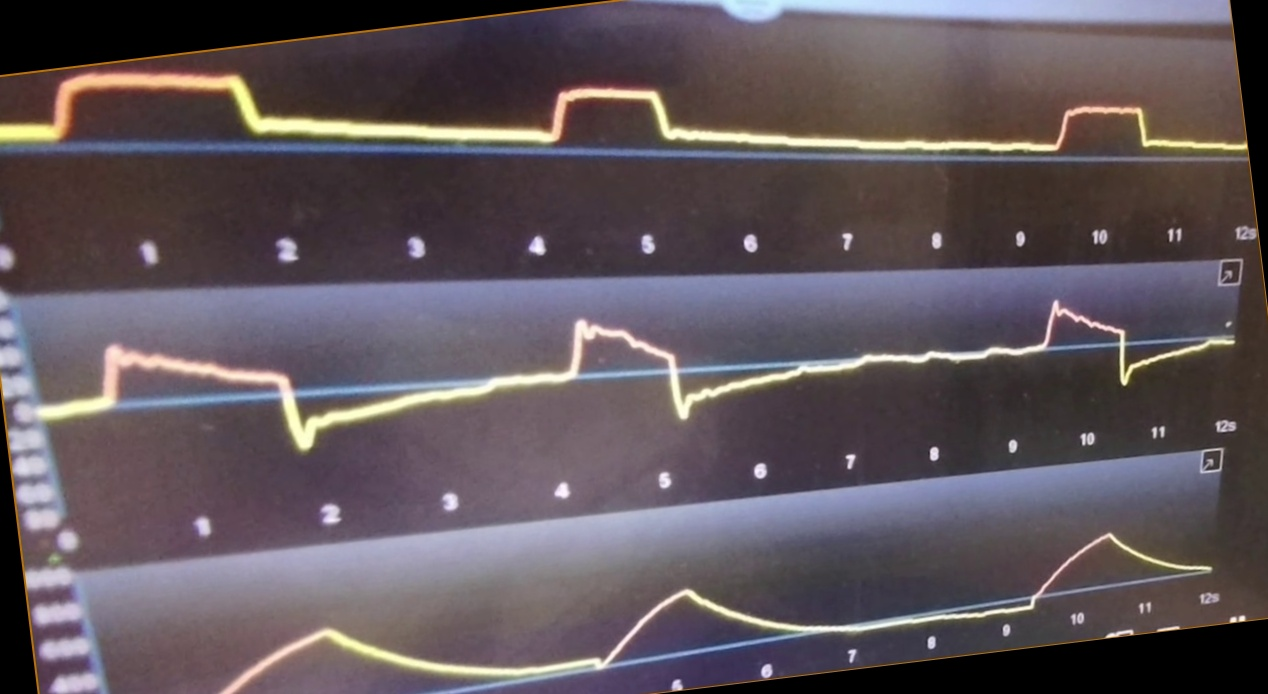Accumulation Flow: (43, 295, 1236, 452)
Volume: (208, 529, 1210, 694)
